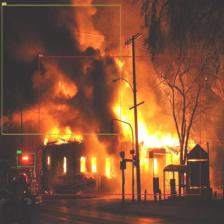fire: (39, 56, 200, 195)
smoke: (1, 5, 121, 134)
